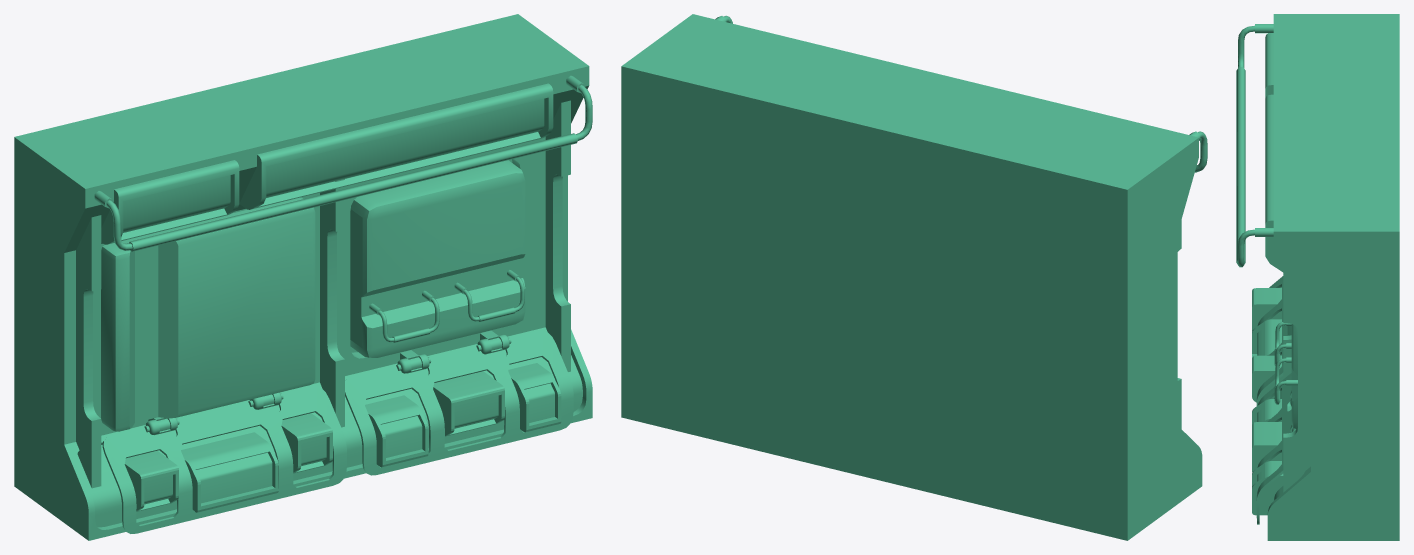
The model's file is Wall_A.FBX.
3 views of the same model, side by side, from view 1: azimuth 30°, elevation 25°; view 2: azimuth 150°, elevation 25°; view 3: azimuth 270°, elevation 25° (orthographic). The views are drawn at different scales.
Parts seen in each view (by area): view 1: Wall_A; view 2: Wall_A; view 3: Wall_A.
Part boxes in pixels (bbox=[...]): Wall_A: bbox=[14, 14, 592, 540]; Wall_A: bbox=[621, 14, 1207, 540]; Wall_A: bbox=[1236, 14, 1399, 540].
Size of the model in its own units: 400 by 265 by 127.
